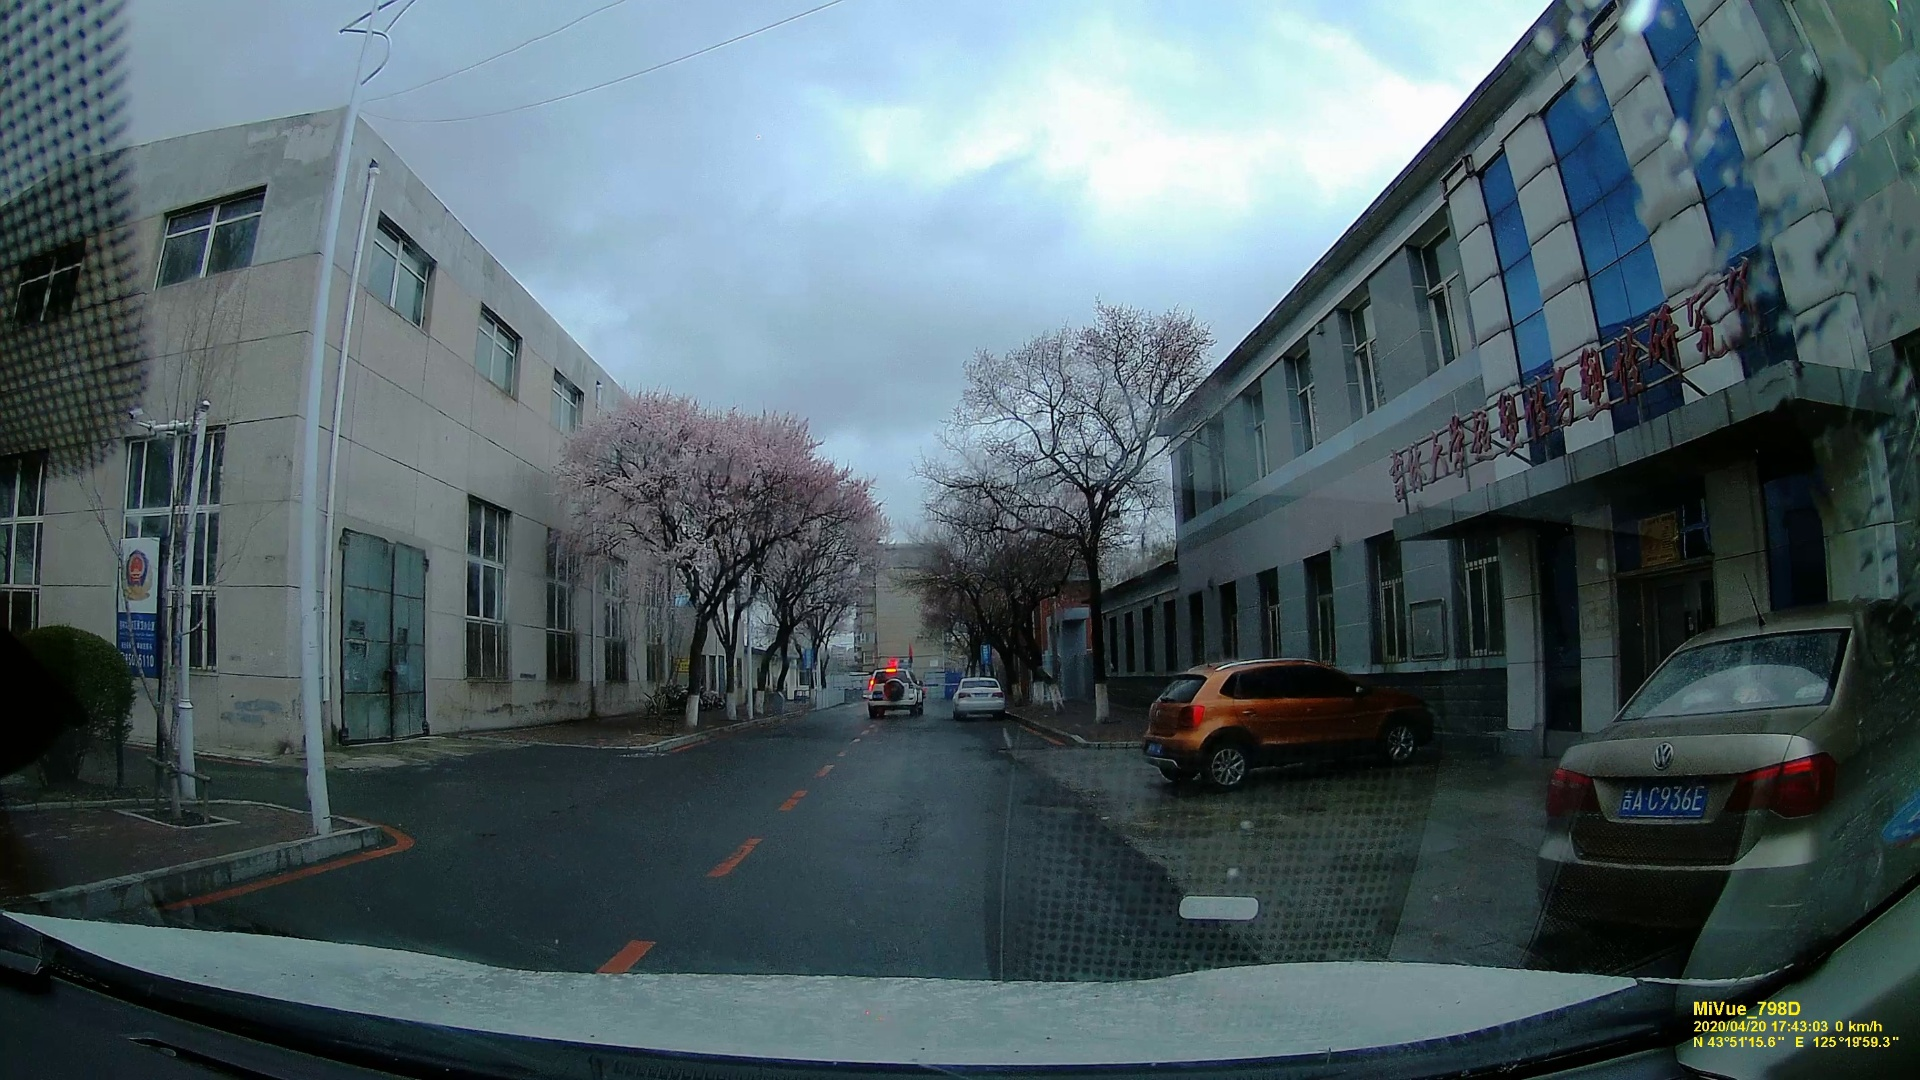traffic_sign: (109, 541, 162, 669)
vehicle: (1538, 611, 1920, 971), (1137, 651, 1456, 790), (864, 666, 926, 717), (949, 675, 1009, 721)
